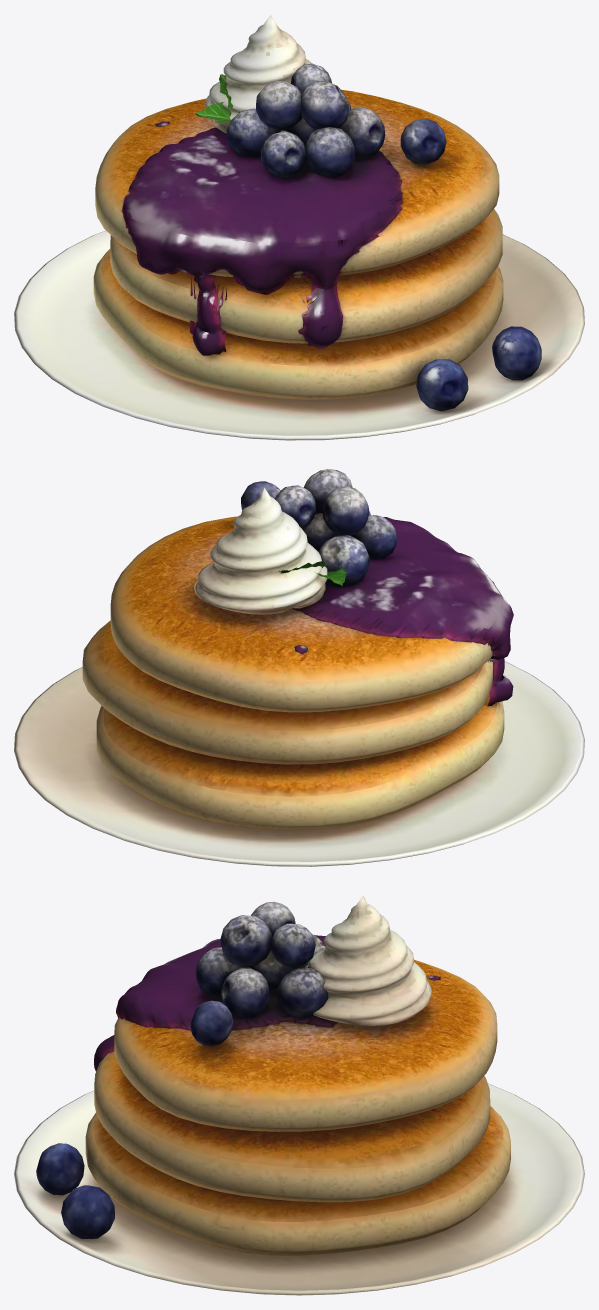
Rendered from pancake--blueberry-fresh.glb.
3 renders of one model, top to bottom at view 1: azimuth 30°, elevation 25°; view 2: azimuth 150°, elevation 25°; view 3: azimuth 270°, elevation 25°, orthographic.
Parts seen in each view (by area): view 1: pancake_blueberry-fresh; view 2: pancake_blueberry-fresh; view 3: pancake_blueberry-fresh.
Boxes of the visible parts, x1,y1,x2,y2 form: pancake_blueberry-fresh: [14, 14, 584, 440]; pancake_blueberry-fresh: [14, 469, 584, 866]; pancake_blueberry-fresh: [14, 895, 584, 1295].
Bounding box in the file's own units: 1.27 × 0.7431 × 1.27.
Materials: 1 (1 with a texture image).
